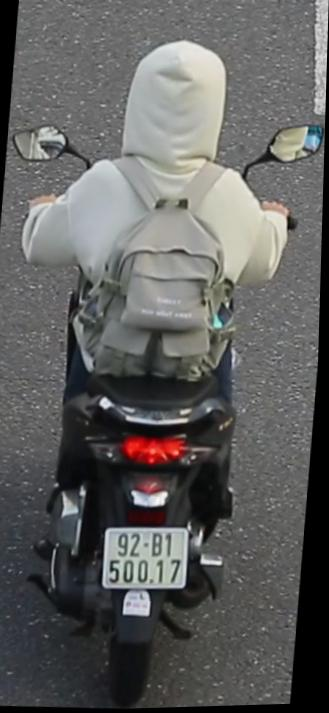LP: (100, 520, 197, 596)
no helmet: (111, 33, 242, 197)
